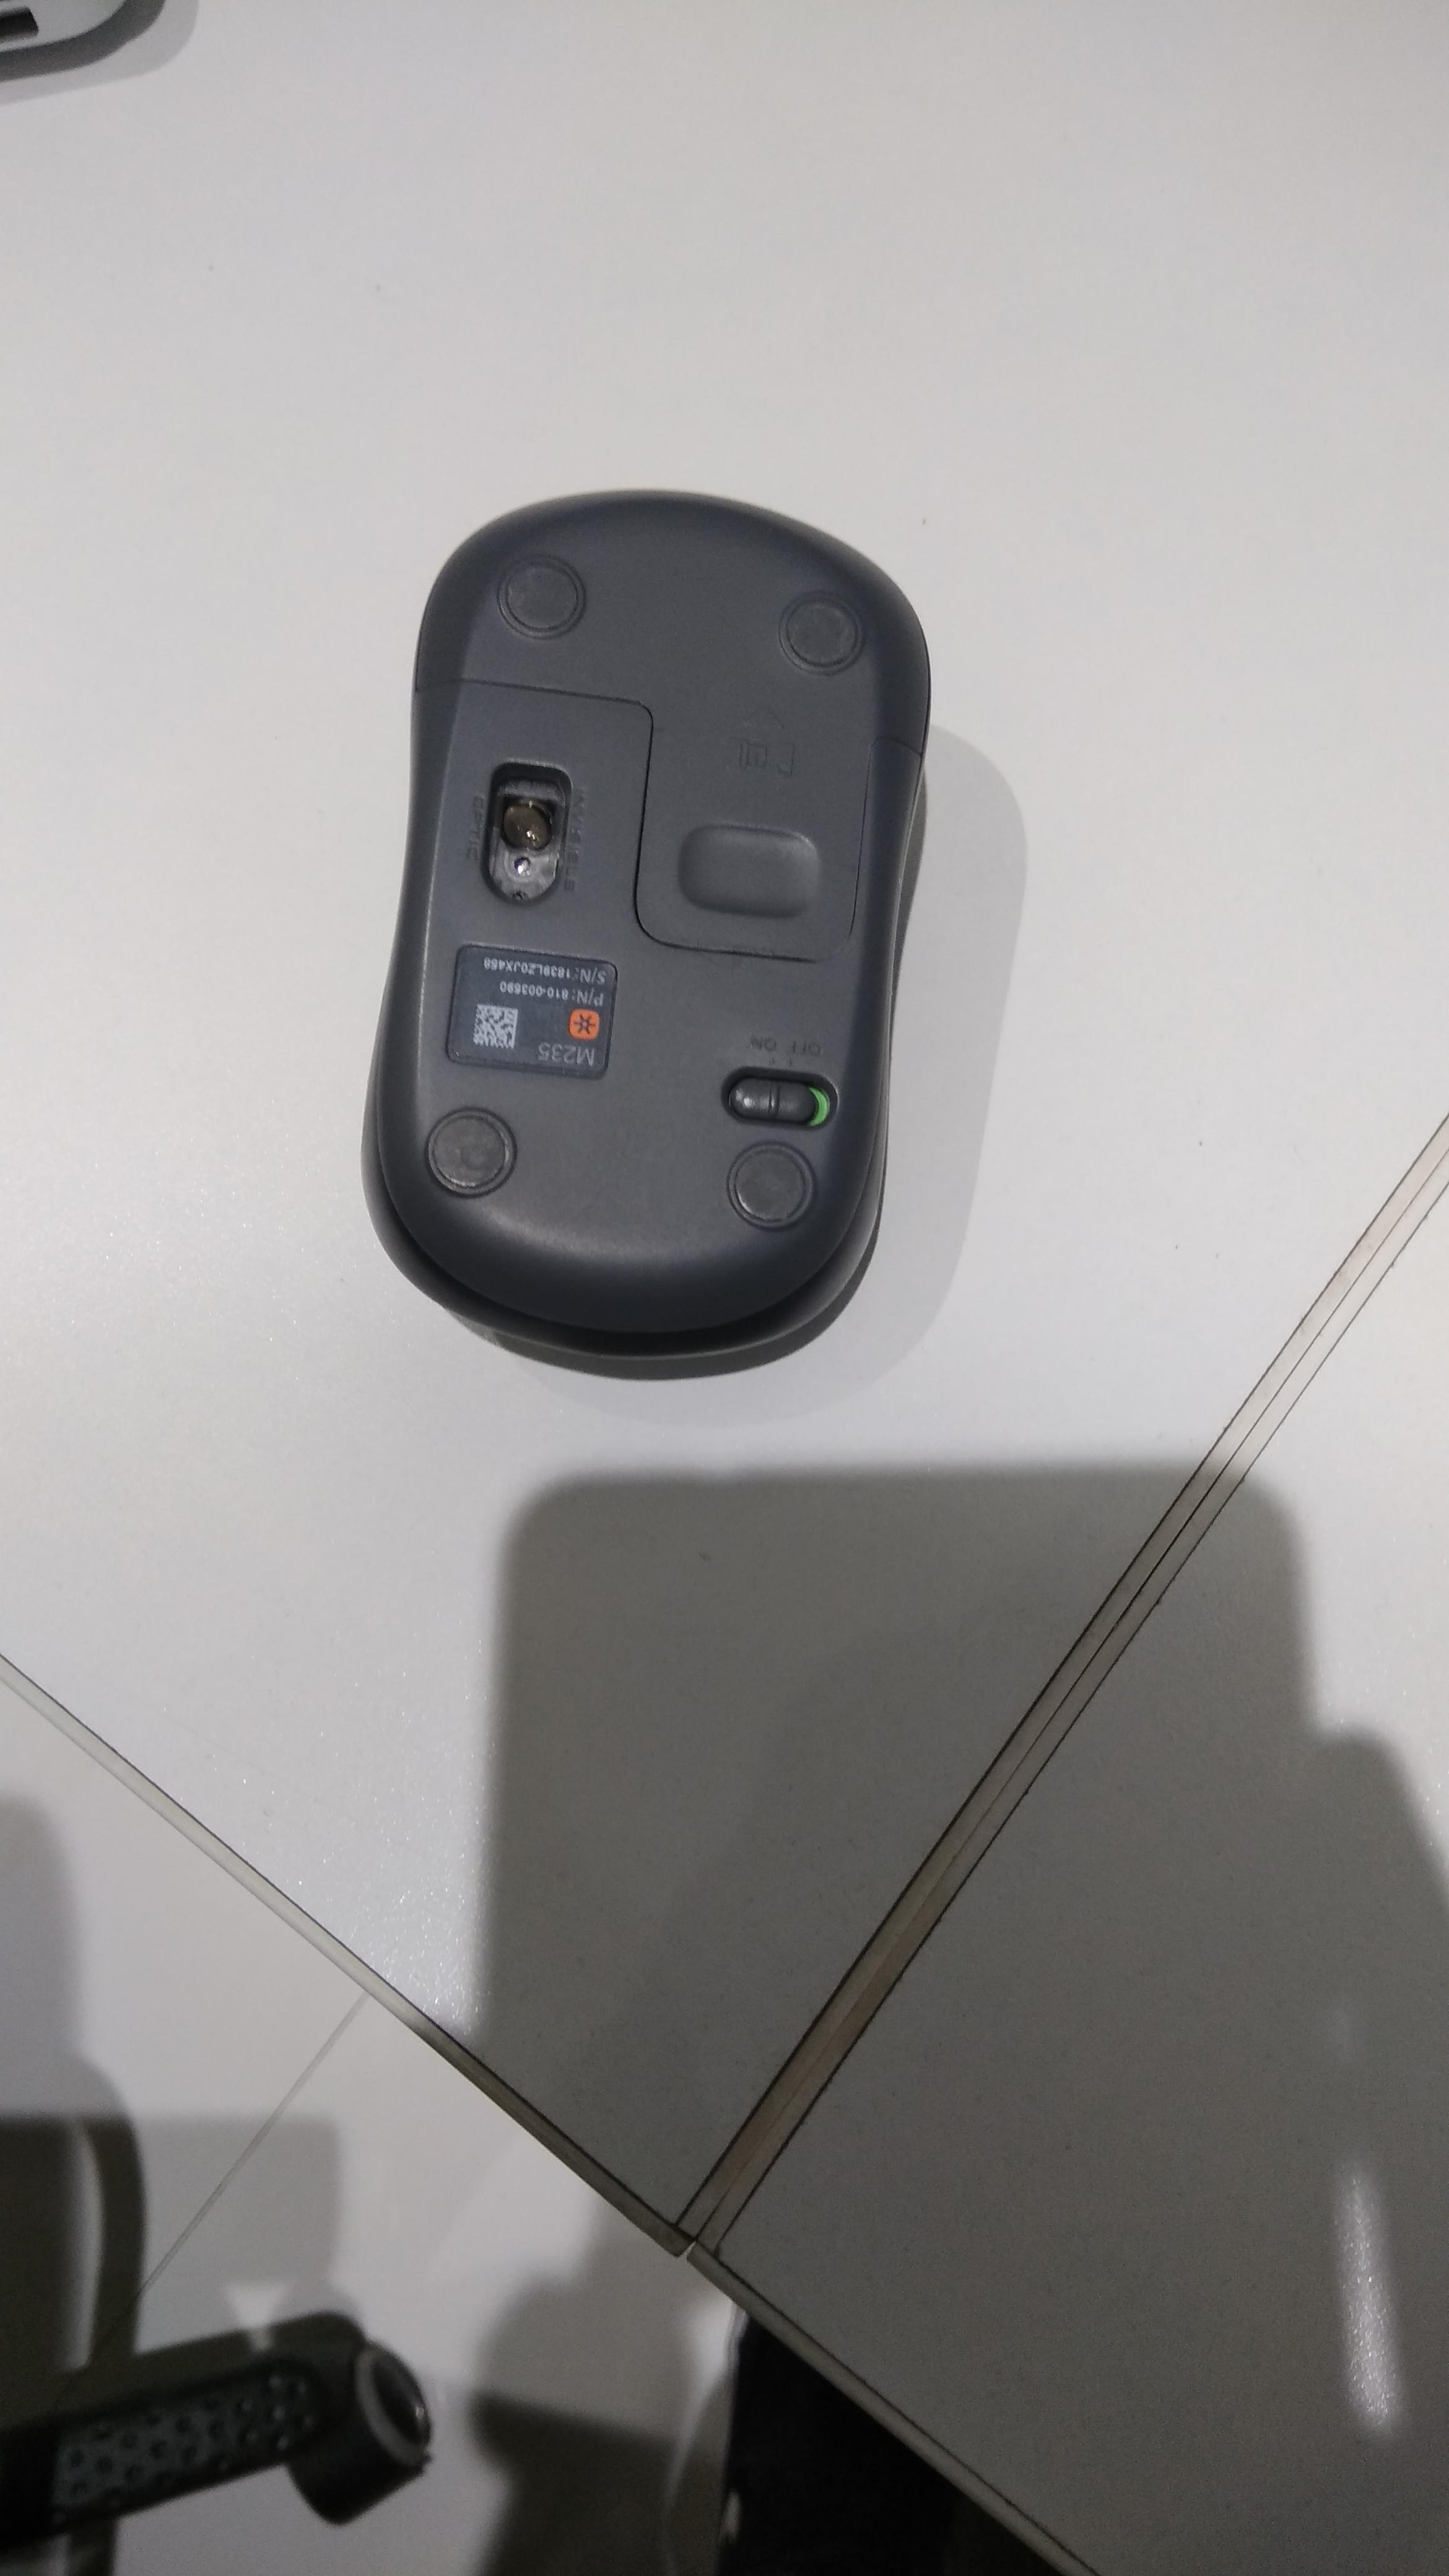mouse: (331, 460, 966, 1414)
